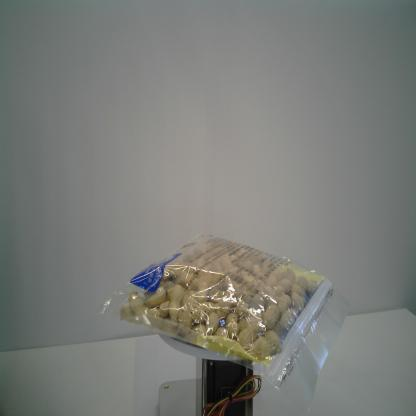Dried Food: (100, 231, 357, 414)
